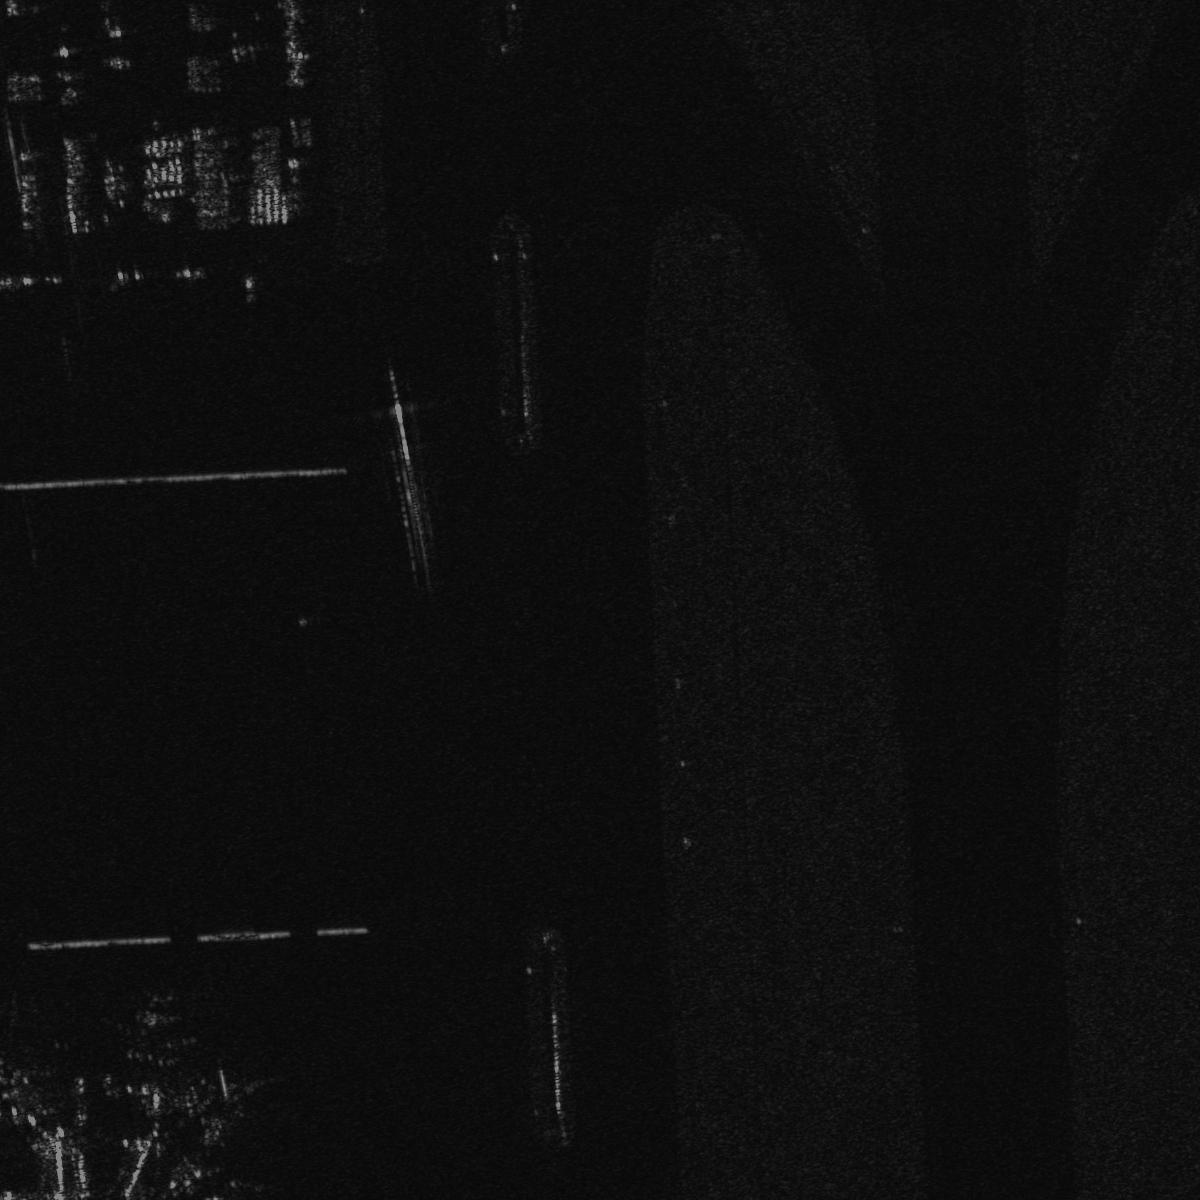A320/321: (104, 988, 204, 1069)
